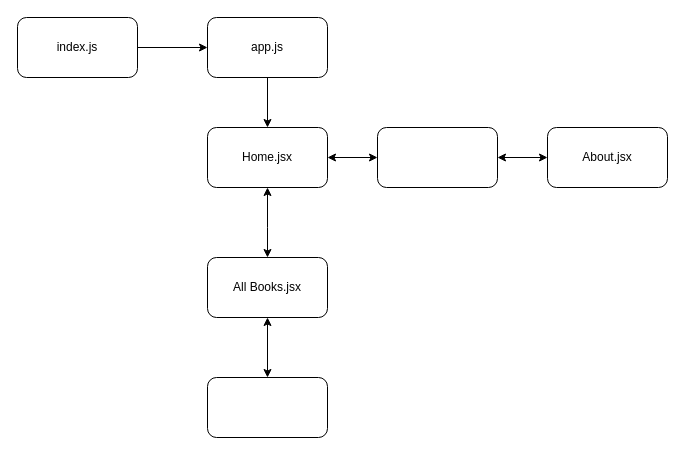
This 685x455 diagram has some shape labels left out. The box of each missing label's shape, as (x1, y1, x2, y2) in pixels:
Add Book.jsx: (376, 126, 498, 188)
Update Book.jsx: (206, 376, 328, 438)
